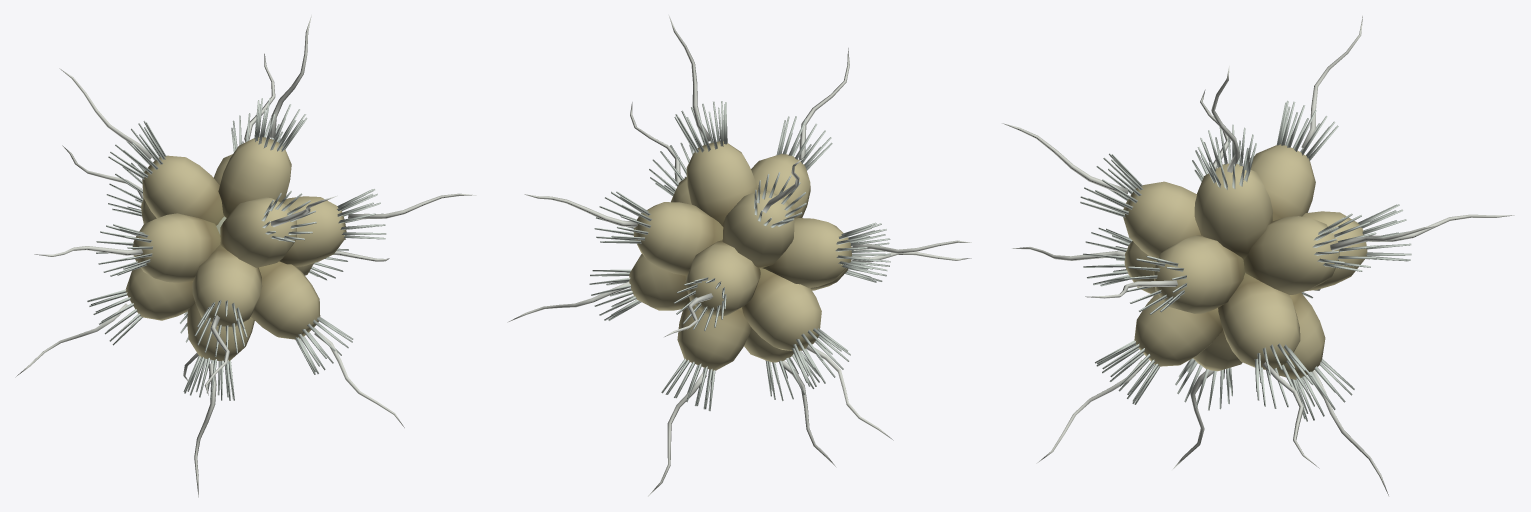
Rendered from Choanoflagellate.fbx.
3 renders of one model, left to right at view 1: azimuth 30°, elevation 25°; view 2: azimuth 150°, elevation 25°; view 3: azimuth 270°, elevation 25°, orthographic. The views are drawn at different scales.
Parts seen in each view (by area): view 1: Choanoflagellate; view 2: Choanoflagellate; view 3: Choanoflagellate.
Boxes of the visible parts, x1=… form: Choanoflagellate: x1=15, y1=15, x2=476, y2=497; Choanoflagellate: x1=507, y1=16, x2=971, y2=496; Choanoflagellate: x1=1002, y1=16, x2=1514, y2=495.
Bounding box in the file's own units: 1.48 × 1.49 × 1.44.
